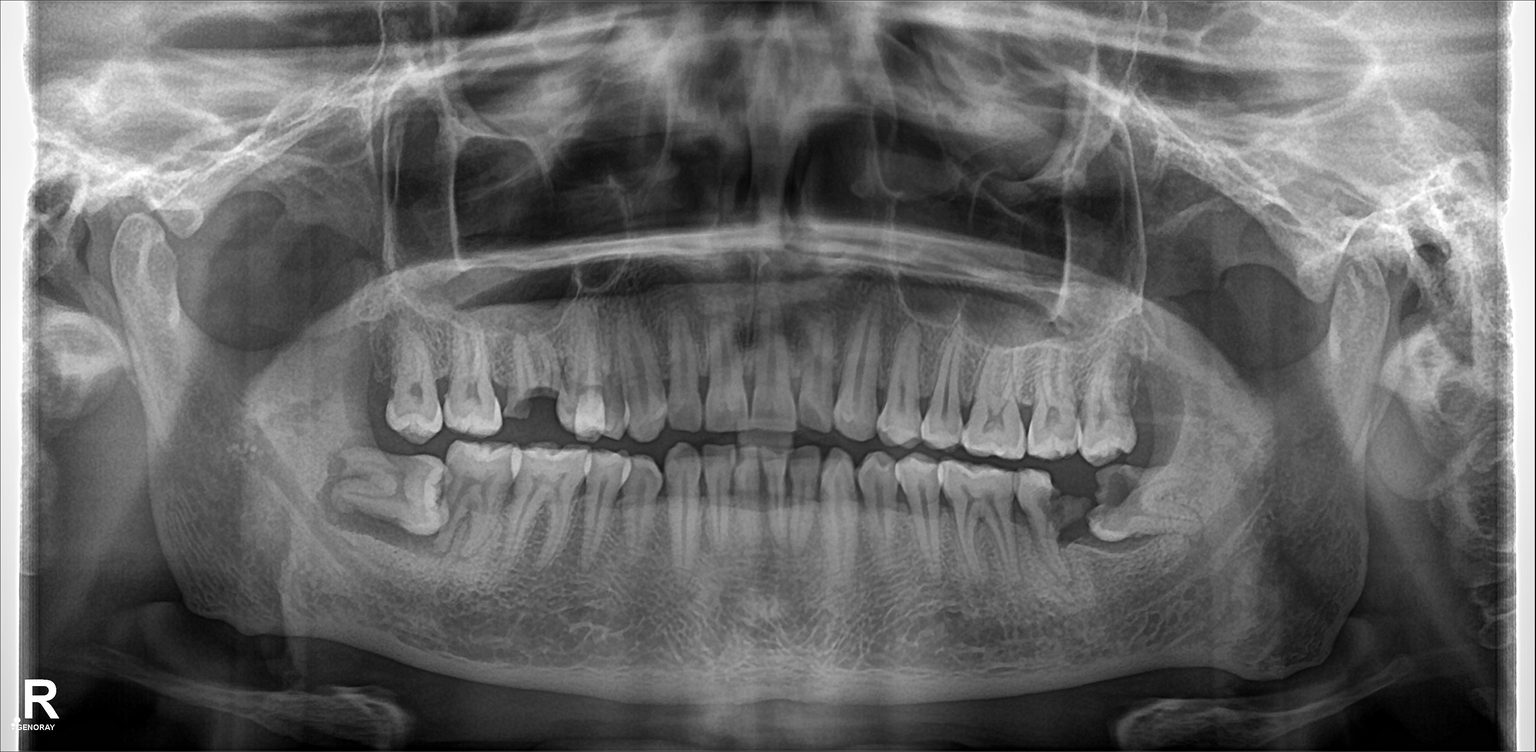Dental Caries: (1035, 480, 1088, 529)
Impacted Third Molar: (313, 450, 444, 536), (1102, 475, 1202, 539)
Missing Tooth: (343, 315, 404, 428), (1132, 352, 1183, 457)
Tooth Fracture: (497, 339, 568, 426)
